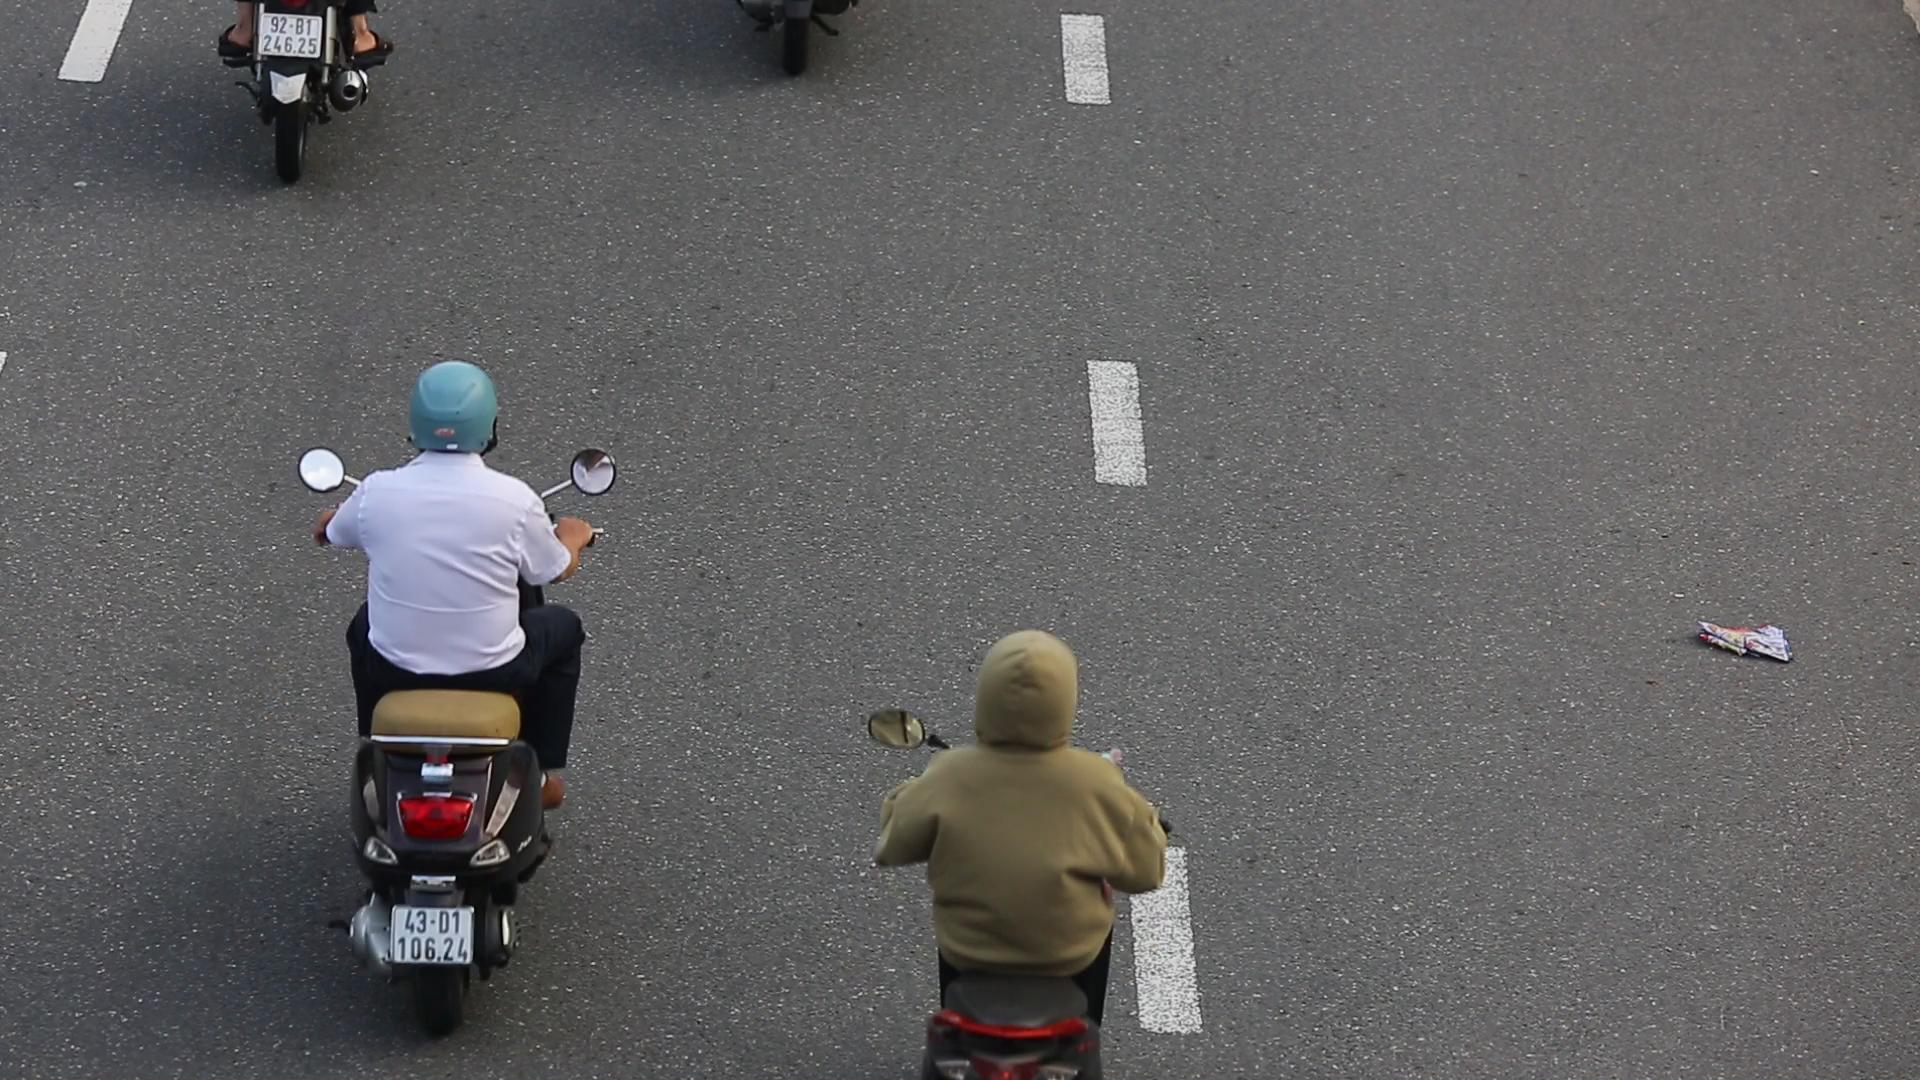motobike: (297, 332, 626, 1042)
